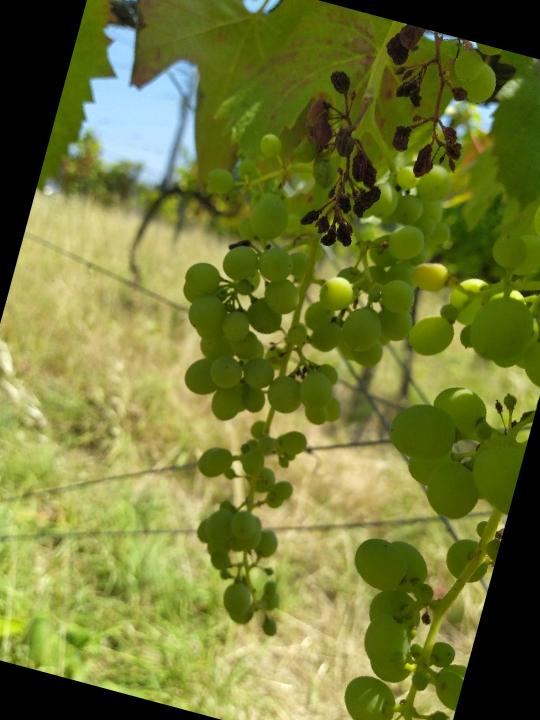grape: (81, 75, 482, 671), (269, 5, 506, 282)
